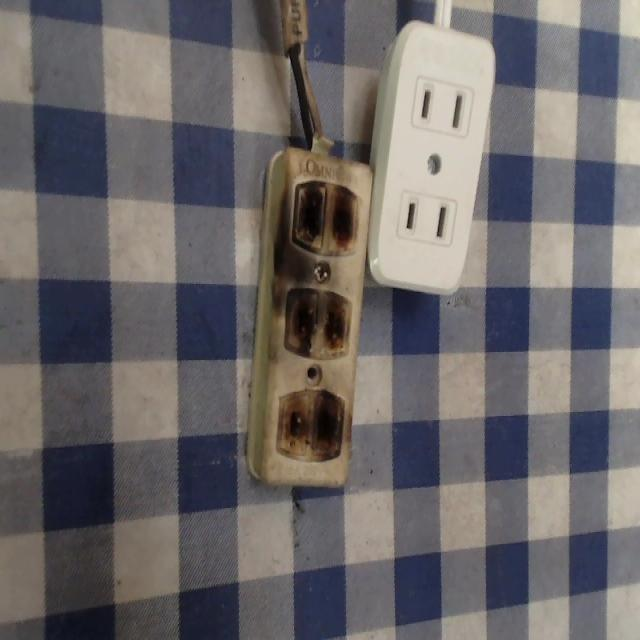-: (276, 384, 352, 465), (291, 176, 359, 261), (283, 286, 355, 358)
